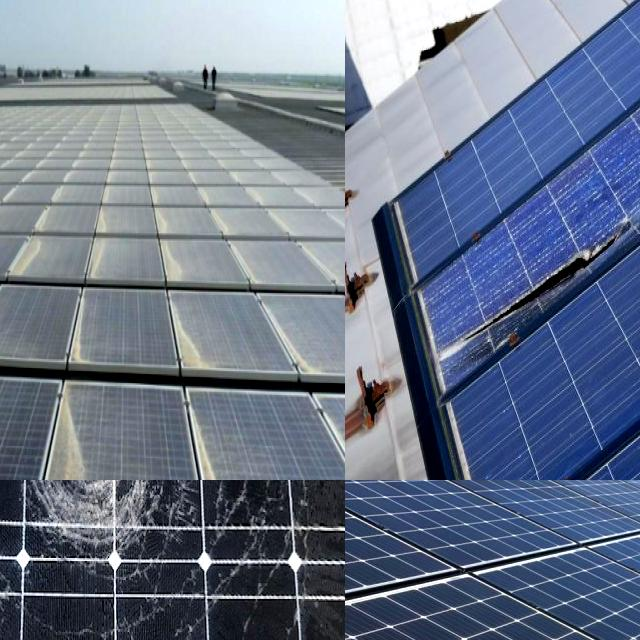crack: (345, 480, 598, 572), (345, 480, 640, 552), (345, 570, 640, 640), (443, 536, 640, 640), (443, 480, 640, 537)
dust: (176, 393, 340, 480), (22, 388, 163, 480), (64, 220, 148, 374), (260, 230, 345, 380), (160, 242, 244, 372), (151, 128, 240, 227), (14, 128, 119, 207), (0, 378, 76, 480), (0, 233, 52, 372), (0, 221, 47, 361), (0, 375, 44, 480), (0, 237, 40, 338), (0, 121, 50, 201), (0, 128, 47, 206)
hotspot: (423, 180, 630, 398), (15, 480, 175, 592)
